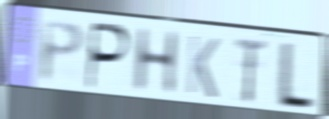H: (130, 25, 182, 96)
K: (184, 32, 221, 101)
L: (273, 40, 318, 113)
P: (83, 20, 132, 93), (39, 18, 87, 87)
T: (233, 35, 269, 106)
